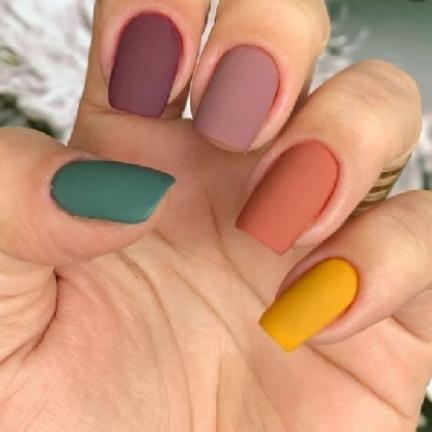Nail: (236, 141, 338, 254), (259, 257, 359, 351), (195, 46, 279, 151), (51, 160, 175, 223), (108, 13, 182, 117)
